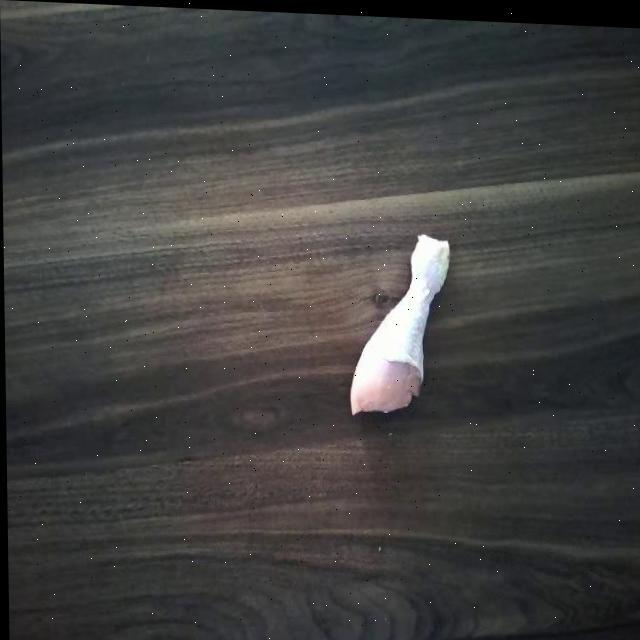leg: (346, 228, 446, 417)
